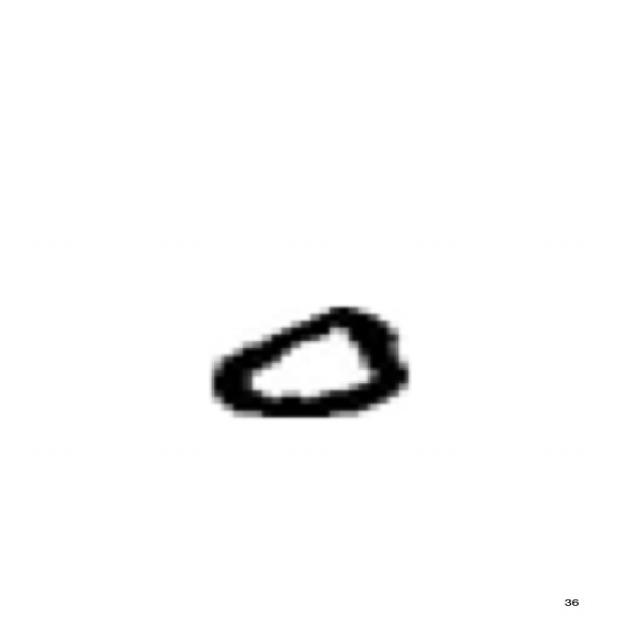5 -five-: (196, 297, 418, 427)
